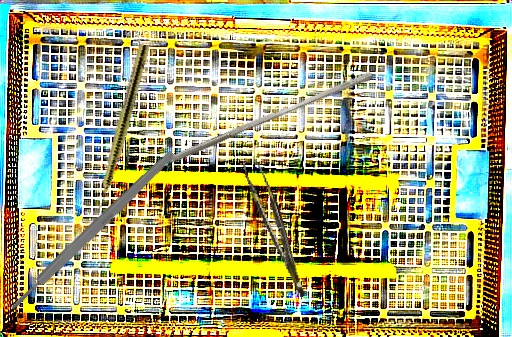Handpiece: (91, 43, 151, 217)
Pusher: (167, 63, 375, 173)
Scalpel Handle: (6, 148, 178, 313)
Tissue Forceps: (242, 156, 306, 303)
